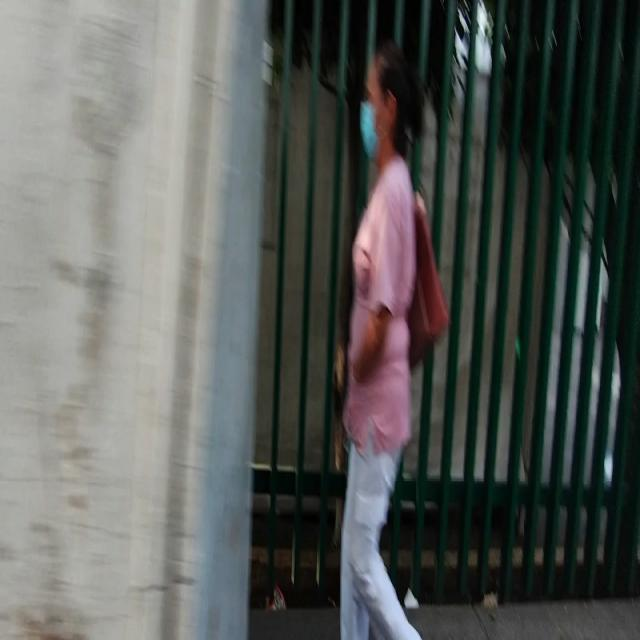adult: (342, 44, 424, 640)
